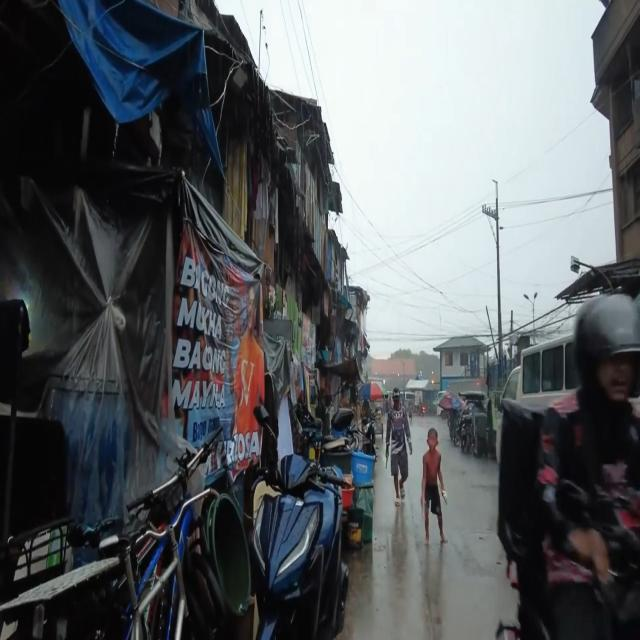half: (571, 295, 640, 400)
